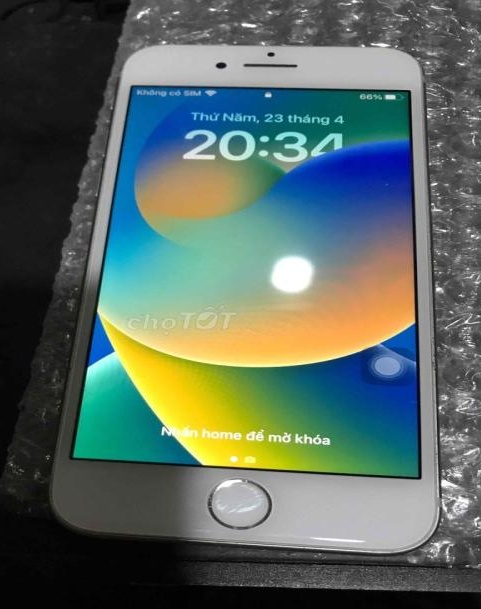scratch: (199, 475, 272, 519)
